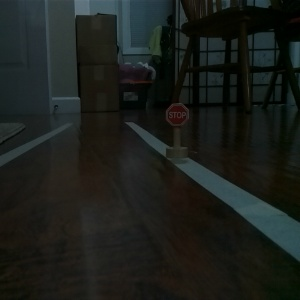stop sign: (162, 100, 192, 161)
